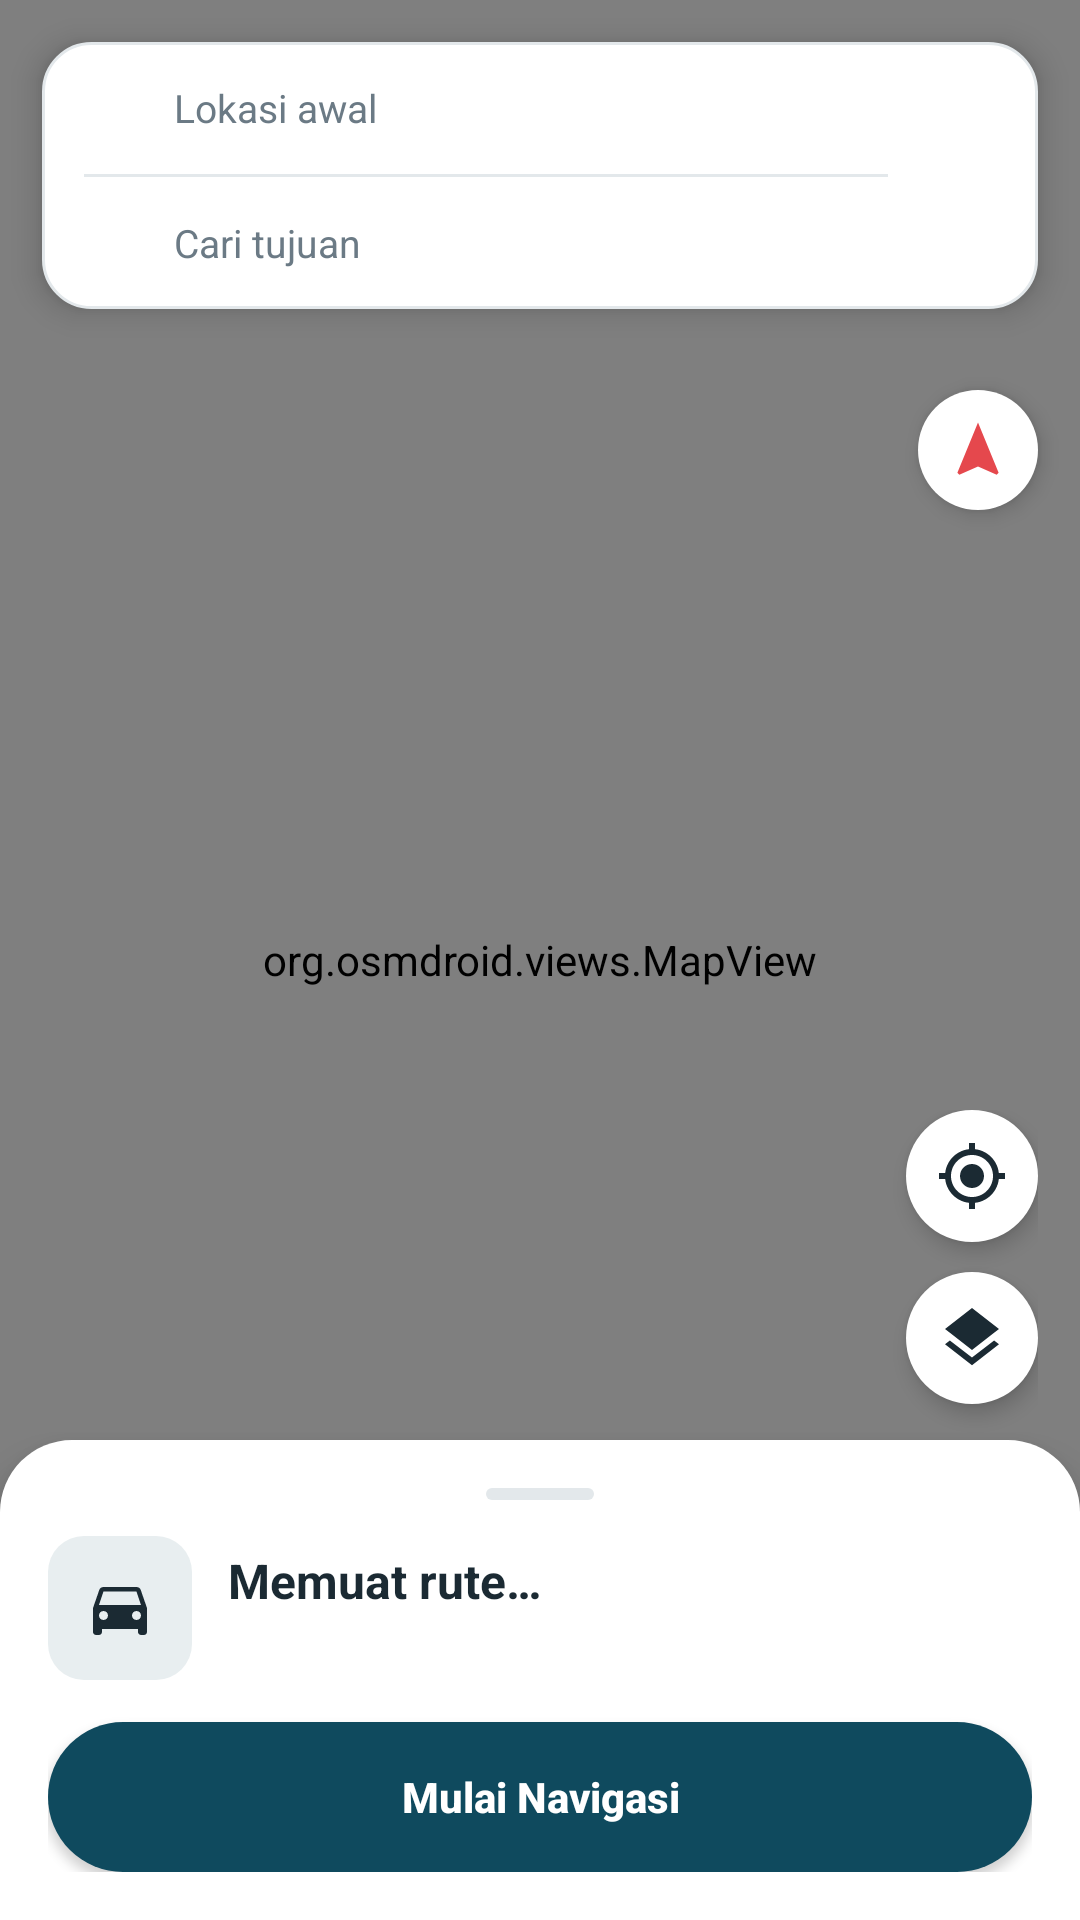

Icons on this 1080 x 1920 Android screen, each with the point to tap as [x,y]:
car: [120,1611]
layers: [972,1338]
location: [972,1176]
navigation: [978,450]
